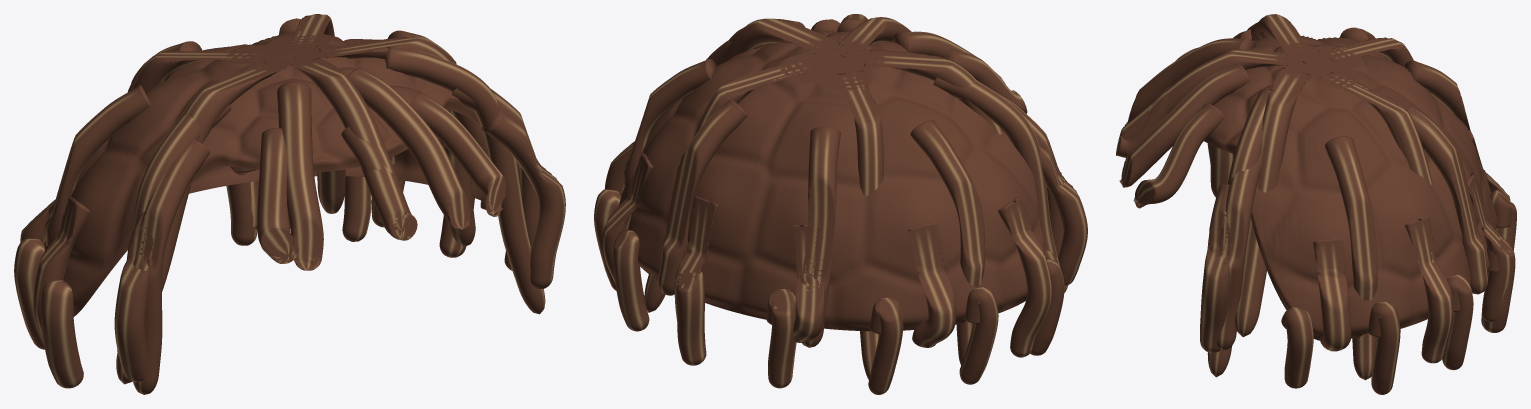
Rendered from Highlights-efedeeb8b7f5252-hair.glb.
3 renders of one model, left to right at view 1: azimuth 30°, elevation 25°; view 2: azimuth 150°, elevation 25°; view 3: azimuth 270°, elevation 25°, orthographic. The views are drawn at different scales.
Visible parts, largest first — view 1: 226 hair / Hair252 / sectioned locs.001; view 2: 226 hair / Hair252 / sectioned locs.001; view 3: 226 hair / Hair252 / sectioned locs.001.
Part boxes in pixels (x1,y1,x2,y2): 226 hair / Hair252 / sectioned locs.001: [14, 14, 565, 394]; 226 hair / Hair252 / sectioned locs.001: [594, 14, 1087, 394]; 226 hair / Hair252 / sectioned locs.001: [1116, 14, 1516, 394].
Bounding box in the file's own units: 1.1 × 0.619 × 0.8815.
1 material, 1 textured.
